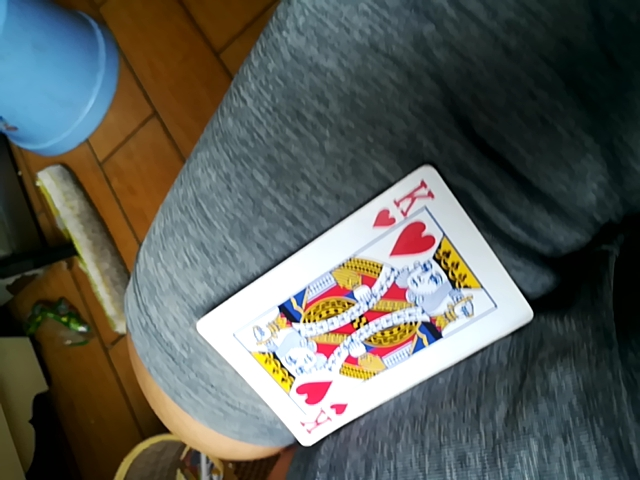hx k: (197, 166, 538, 446)
